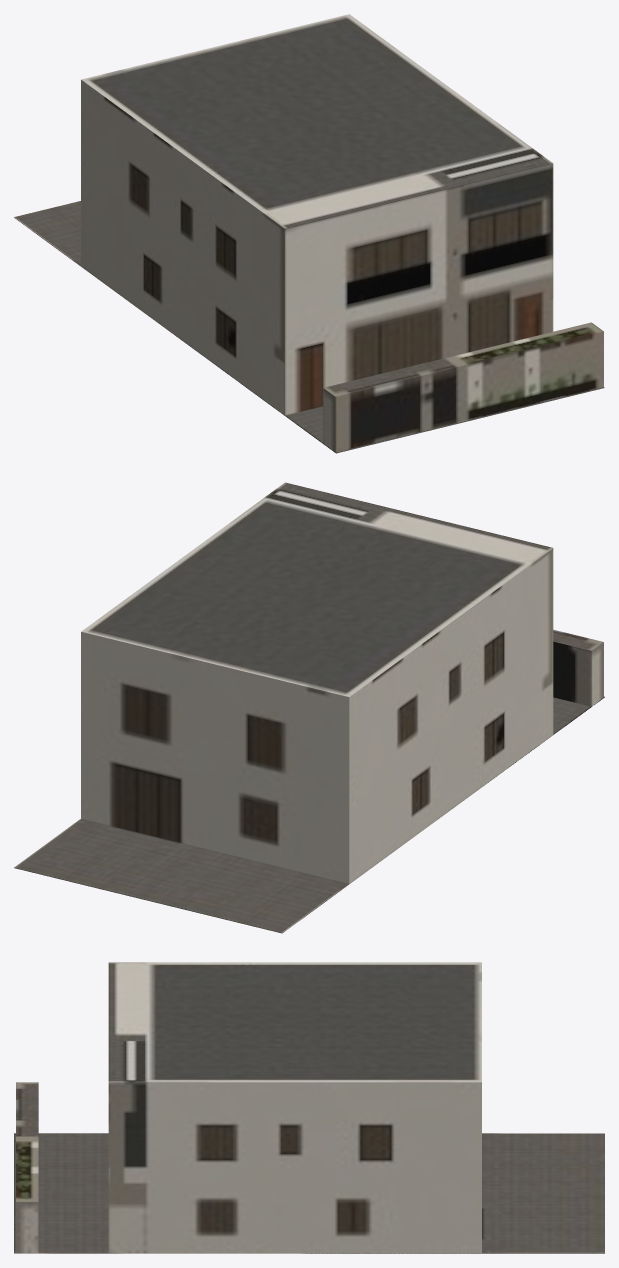
The model's file is house_C_lod2.glb.
3 renders of one model, top to bottom at view 1: azimuth 30°, elevation 25°; view 2: azimuth 150°, elevation 25°; view 3: azimuth 270°, elevation 25°, orthographic. The views are drawn at different scales.
Parts seen in each view (by area): view 1: body; view 2: body; view 3: body.
Boxes of the visible parts, bbox=[...] form: body: bbox=[14, 14, 604, 453]; body: bbox=[14, 482, 604, 933]; body: bbox=[14, 962, 604, 1253].
Bounding box in the file's own units: 12 × 8 × 25.
Materials: 1 (1 with a texture image).
